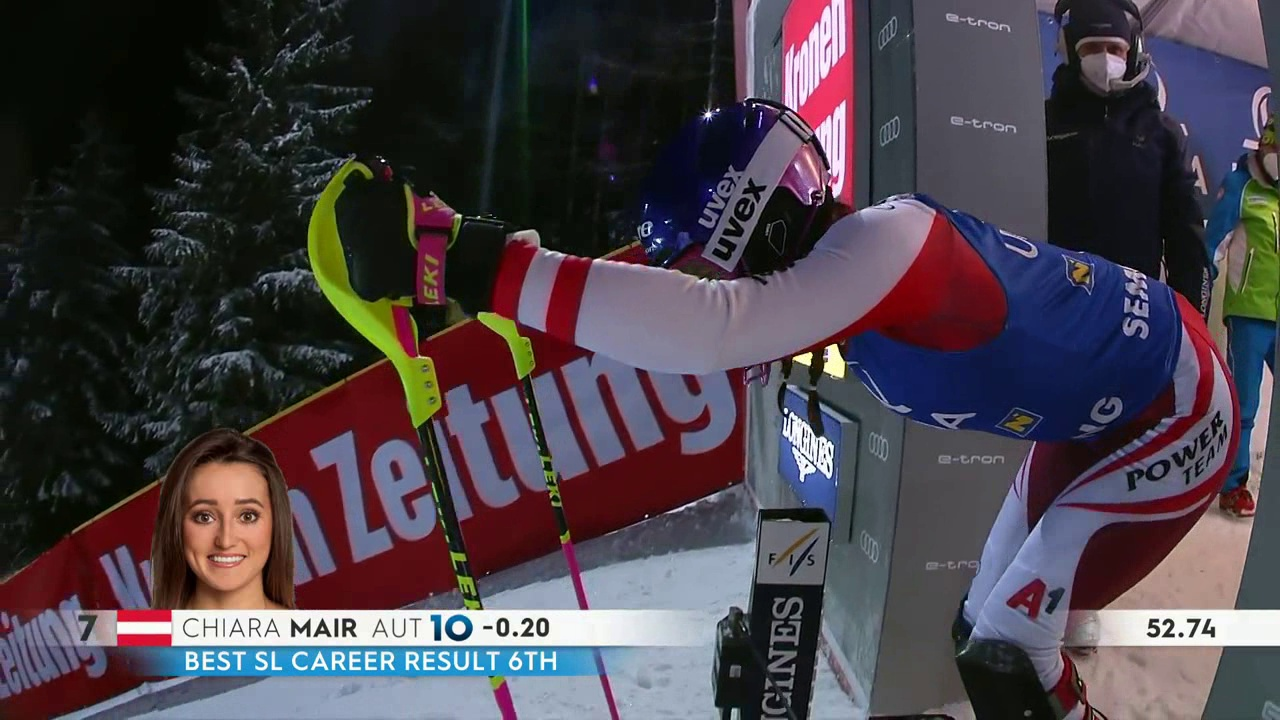a1: (1003, 566, 1068, 628)
audi: (875, 11, 909, 56), (877, 111, 908, 152)
etron: (943, 108, 1023, 135)
kronenzeitung: (768, 1, 854, 162)
